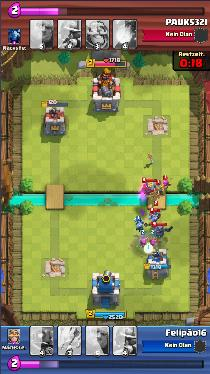ally_archer: (138, 237, 147, 249), (147, 237, 156, 248)
ally_minion: (134, 219, 145, 231)
enemy_archer: (161, 178, 172, 191)
enemy_knight: (139, 181, 158, 197)
enemy_mini_pekka: (152, 223, 171, 237)
enemy_minion: (148, 212, 160, 220)
